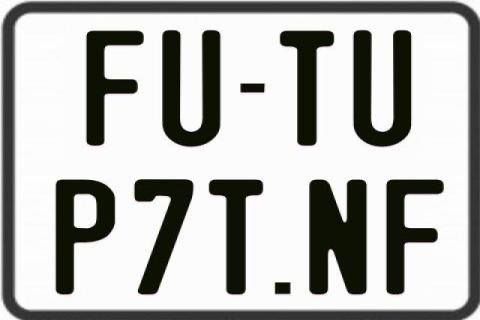0: (133, 180, 192, 296)
F: (383, 179, 447, 299), (84, 30, 142, 146)
N: (309, 178, 367, 296)
P: (55, 178, 120, 296)
T: (208, 180, 266, 298), (278, 29, 334, 144)
U: (159, 30, 219, 150), (352, 29, 412, 147)
